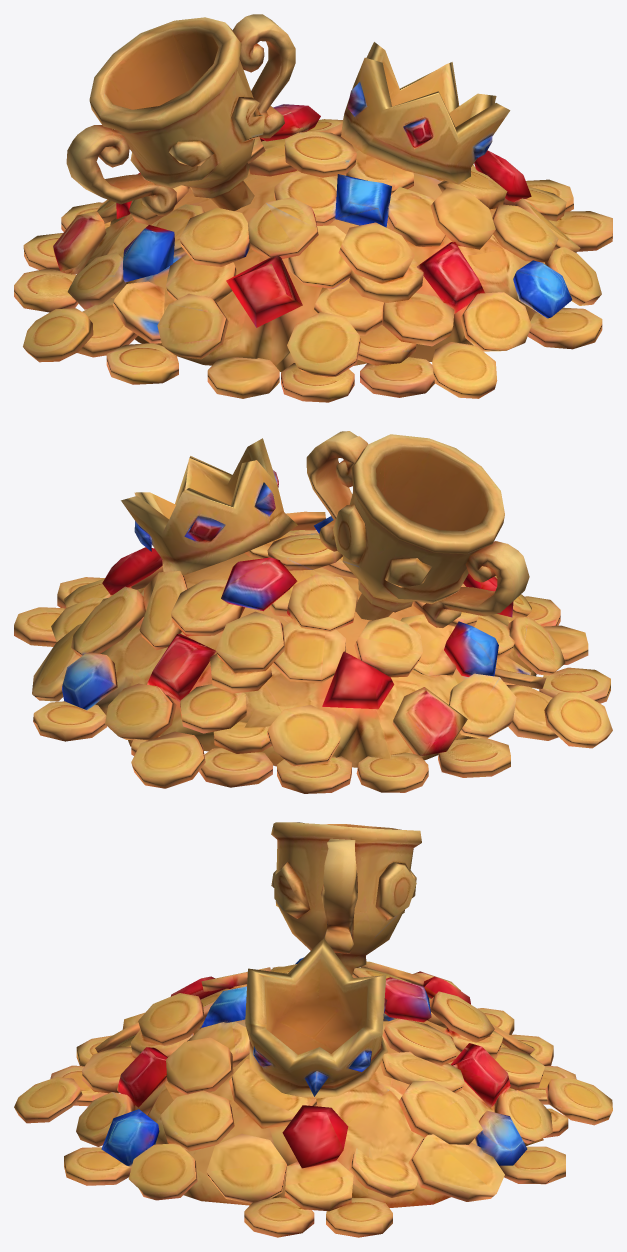
File: hoard-gold.glb
The picture shows the model from 3 angles, top to bottom: view 1: azimuth 30°, elevation 25°; view 2: azimuth 150°, elevation 25°; view 3: azimuth 270°, elevation 25°; orthographic projection. The views are drawn at different scales.
Size of the model in its own units: 2.22 by 1 by 2.15.
1 material, 1 textured.
